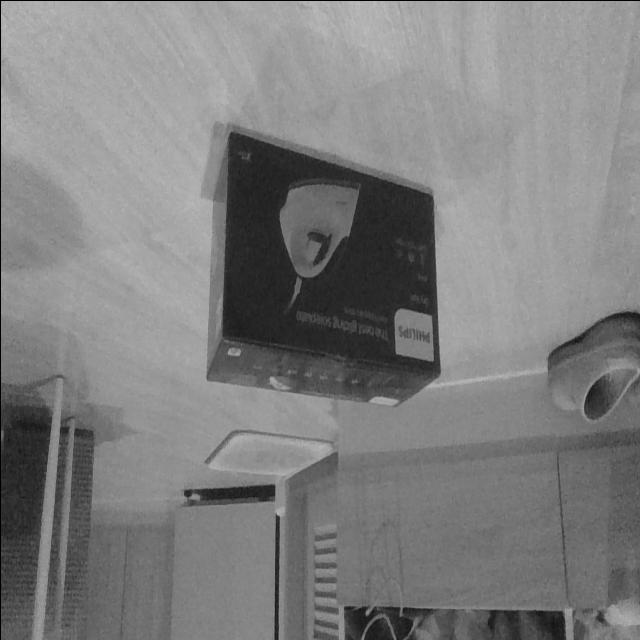IRON: (203, 124, 443, 412)
